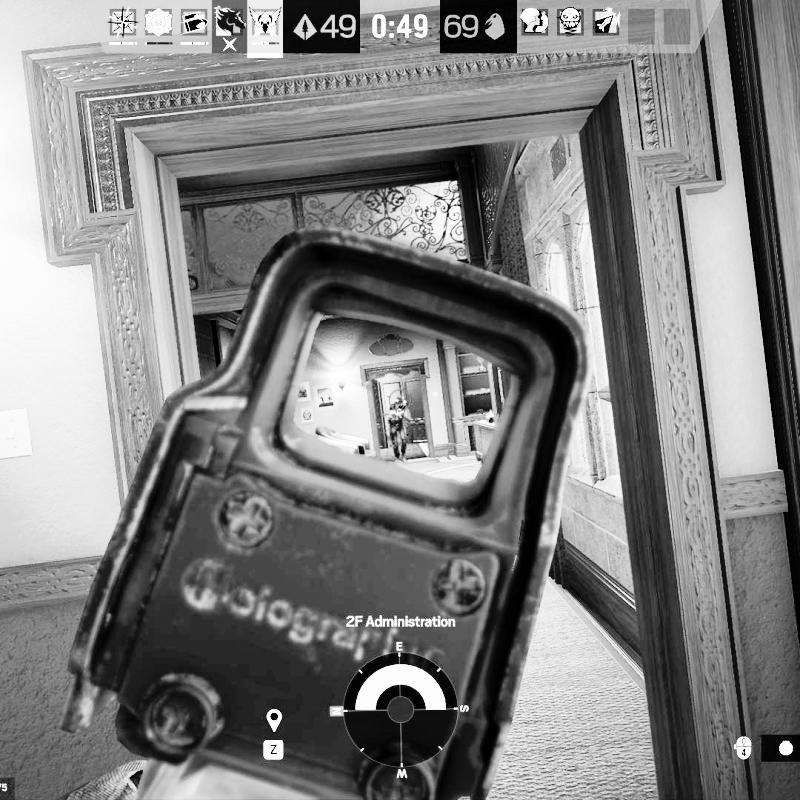Character: (385, 396, 413, 465)
Head: (394, 396, 404, 408)
